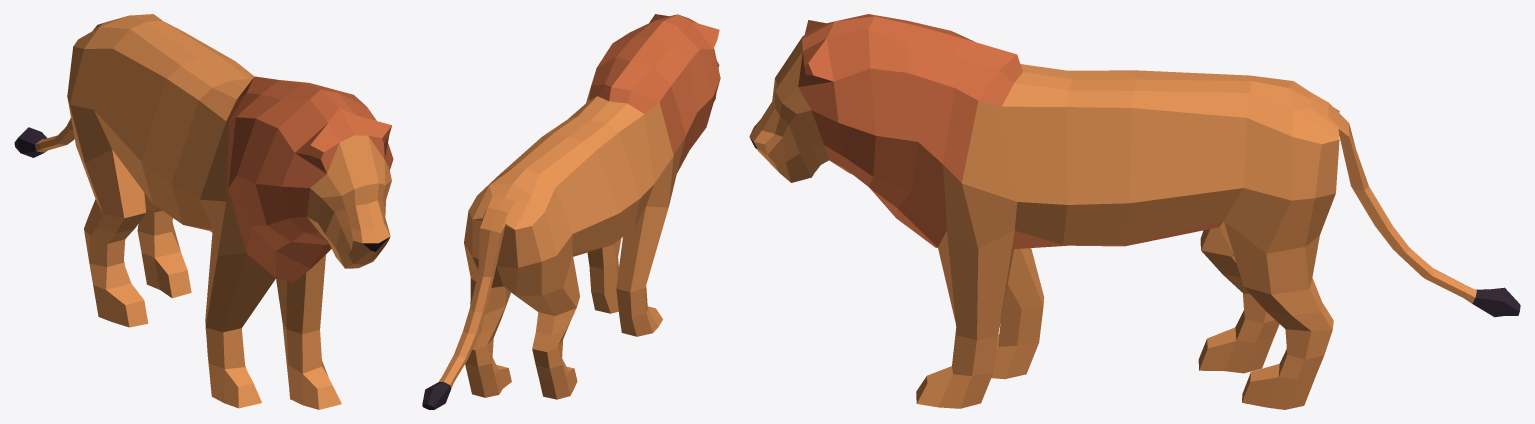
File: Löwe2.fbx
3 renders of one model, left to right at view 1: azimuth 30°, elevation 25°; view 2: azimuth 150°, elevation 25°; view 3: azimuth 270°, elevation 25°, orthographic. The views are drawn at different scales.
Parts seen in each view (by area): view 1: Löwe.002; view 2: Löwe.002; view 3: Löwe.002.
Part boxes in pixels (box(x1,y1,x2,y2)): Löwe.002: box(14, 14, 393, 409); Löwe.002: box(422, 14, 720, 409); Löwe.002: box(749, 14, 1520, 409).
Size of the model in its own units: 0.6618 by 1.66 by 3.16.
